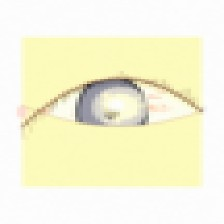corneal_ulcer: (91, 83, 150, 131)
